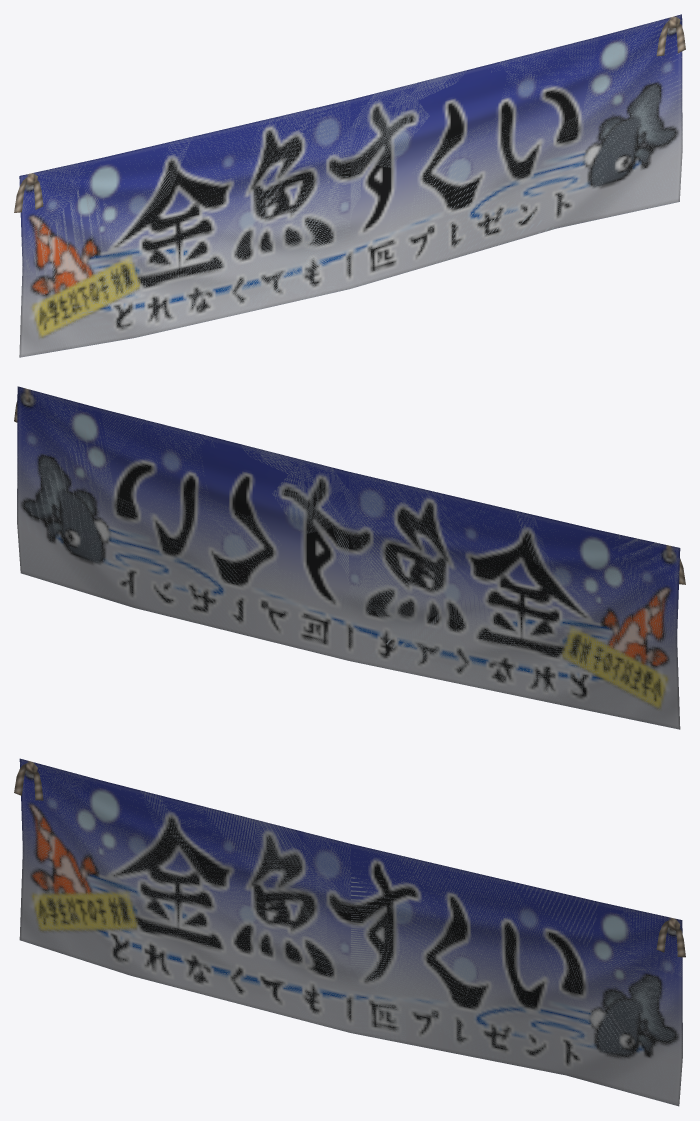
File: jsf_Flyer_Goldfish_12.fbx
3 renders of one model, top to bottom at view 1: azimuth 30°, elevation 25°; view 2: azimuth 150°, elevation 25°; view 3: azimuth 330°, elevation 25°, orthographic.
Visible parts, largest first — view 1: jsf_Flyer_Goldfish_12; view 2: jsf_Flyer_Goldfish_12; view 3: jsf_Flyer_Goldfish_12.
Boxes of the visible parts, left/top/right/bottom form: jsf_Flyer_Goldfish_12: left=14, top=14, right=685, bottom=357; jsf_Flyer_Goldfish_12: left=14, top=386, right=685, bottom=729; jsf_Flyer_Goldfish_12: left=14, top=758, right=685, bottom=1106.
Size of the model in its own units: 122 by 33.55 by 2.23.
